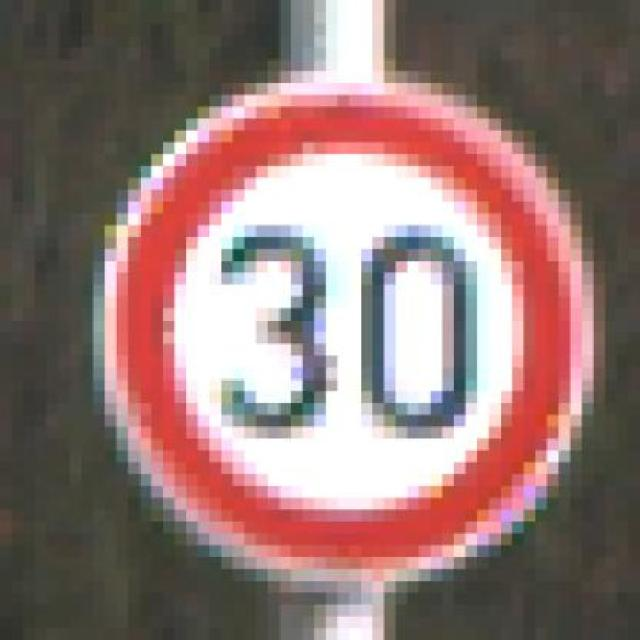Speed Limit 30 KMPh: (70, 35, 605, 592)
